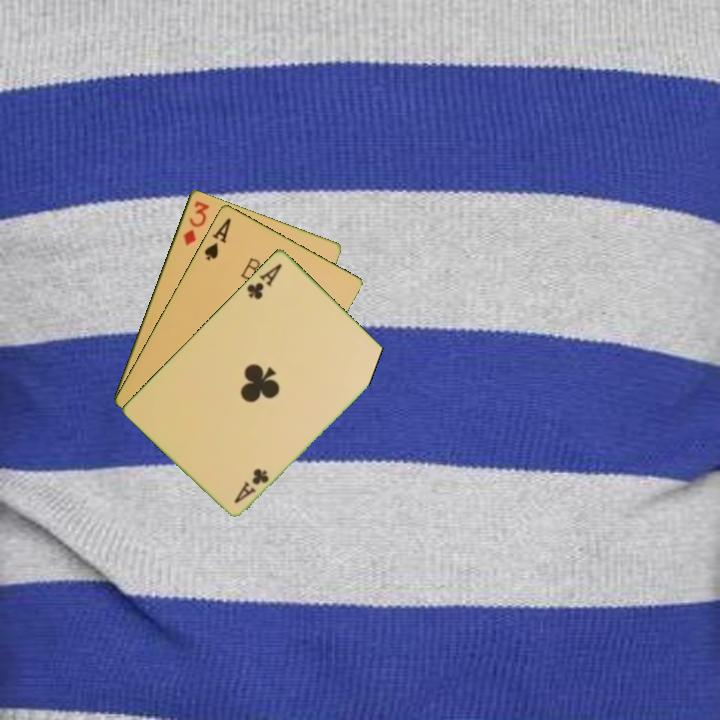3d: (179, 197, 212, 248)
Ac: (243, 260, 285, 302), (230, 464, 272, 506)
As: (200, 214, 234, 263)
